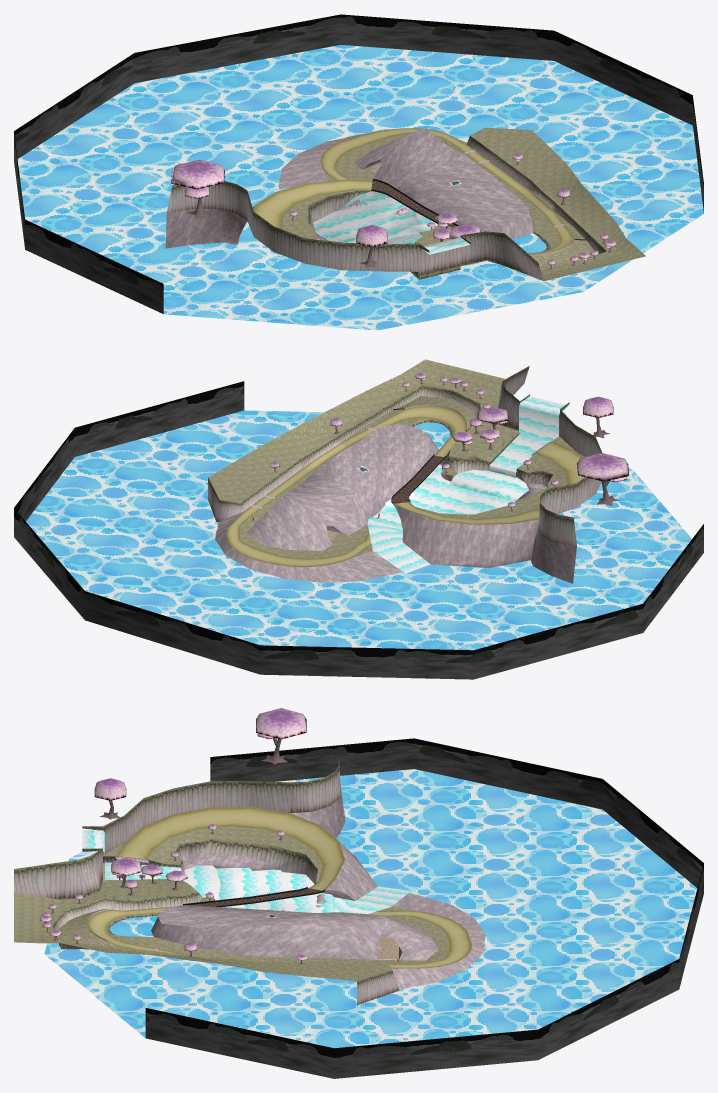
3 renders of one model, top to bottom at view 1: azimuth 30°, elevation 25°; view 2: azimuth 150°, elevation 25°; view 3: azimuth 270°, elevation 25°, orthographic. The views are drawn at different scales.
Visible parts, largest first — view 1: rea_3_SKP__water, rea_3_SKP__cliffs, rea_3_SKP__TR_iwa01Ppng, rea_3_SKP__unknownpng, rea_3_SKP__afafafpng, rea_3_SKP__road, rea_3_SKP__WT_TakiTubo, rea_3_COM_tree2_30725_leaves, rea_3_COM_tree_30728_leaves, rea_3_SKP__TR_wood01Ppng; view 2: rea_3_SKP__water, rea_3_SKP__cliffs, rea_3_SKP__TR_iwa01Ppng, rea_3_SKP__afafafpng, rea_3_SKP__unknownpng, rea_3_SKP__WT_TakiTubo, rea_3_SKP__road, rea_3_COM_tree2_30725_leaves, rea_3_SKP__TR_wood01Ppng, rea_3_COM_tree_30728_leaves; view 3: rea_3_SKP__water, rea_3_SKP__cliffs, rea_3_SKP__TR_iwa01Ppng, rea_3_SKP__unknownpng, rea_3_SKP__afafafpng, rea_3_SKP__road, rea_3_SKP__WT_TakiTubo, rea_3_COM_tree2_30725_leaves, rea_3_COM_tree_30728_leaves.
Part boxes in pixels (x1=…): rea_3_SKP__water: x1=17, y1=45, x2=703, y2=330; rea_3_SKP__cliffs: x1=14, y1=14, x2=703, y2=313; rea_3_SKP__TR_iwa01Ppng: x1=165, y1=127, x2=534, y2=248; rea_3_SKP__unknownpng: x1=167, y1=135, x2=606, y2=280; rea_3_SKP__afafafpng: x1=282, y1=127, x2=645, y2=281; rea_3_SKP__road: x1=253, y1=128, x2=574, y2=255; rea_3_SKP__WT_TakiTubo: x1=274, y1=188, x2=469, y2=277; rea_3_COM_tree2_30725_leaves: x1=171, y1=159, x2=224, y2=198; rea_3_COM_tree_30728_leaves: x1=356, y1=225, x2=387, y2=247; rea_3_SKP__TR_wood01Ppng: x1=371, y1=180, x2=456, y2=227; rea_3_SKP__water: x1=26, y1=410, x2=691, y2=650; rea_3_SKP__cliffs: x1=14, y1=381, x2=703, y2=679; rea_3_SKP__TR_iwa01Ppng: x1=215, y1=424, x2=576, y2=583; rea_3_SKP__afafafpng: x1=208, y1=359, x2=574, y2=558; rea_3_SKP__unknownpng: x1=208, y1=366, x2=602, y2=545; rea_3_SKP__WT_TakiTubo: x1=367, y1=396, x2=569, y2=573; rea_3_SKP__road: x1=226, y1=405, x2=584, y2=567; rea_3_COM_tree2_30725_leaves: x1=577, y1=453, x2=629, y2=482; rea_3_SKP__TR_wood01Ppng: x1=391, y1=456, x2=443, y2=503; rea_3_COM_tree_30728_leaves: x1=583, y1=396, x2=613, y2=418; rea_3_SKP__water: x1=44, y1=769, x2=697, y2=1048; rea_3_SKP__cliffs: x1=145, y1=738, x2=703, y2=1078; rea_3_SKP__TR_iwa01Ppng: x1=151, y1=784, x2=485, y2=989; rea_3_SKP__unknownpng: x1=14, y1=757, x2=398, y2=1004; rea_3_SKP__afafafpng: x1=14, y1=826, x2=449, y2=981; rea_3_SKP__road: x1=87, y1=806, x2=471, y2=968; rea_3_SKP__WT_TakiTubo: x1=82, y1=830, x2=411, y2=914; rea_3_COM_tree2_30725_leaves: x1=256, y1=708, x2=306, y2=739; rea_3_COM_tree_30728_leaves: x1=94, y1=778, x2=126, y2=800.
Size of the model in its own units: 145590 by 24410 by 137006.
Materials: 21 (20 with a texture image).
